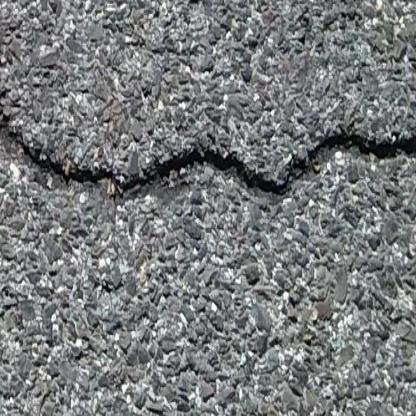Cracks: (0, 91, 416, 204)
